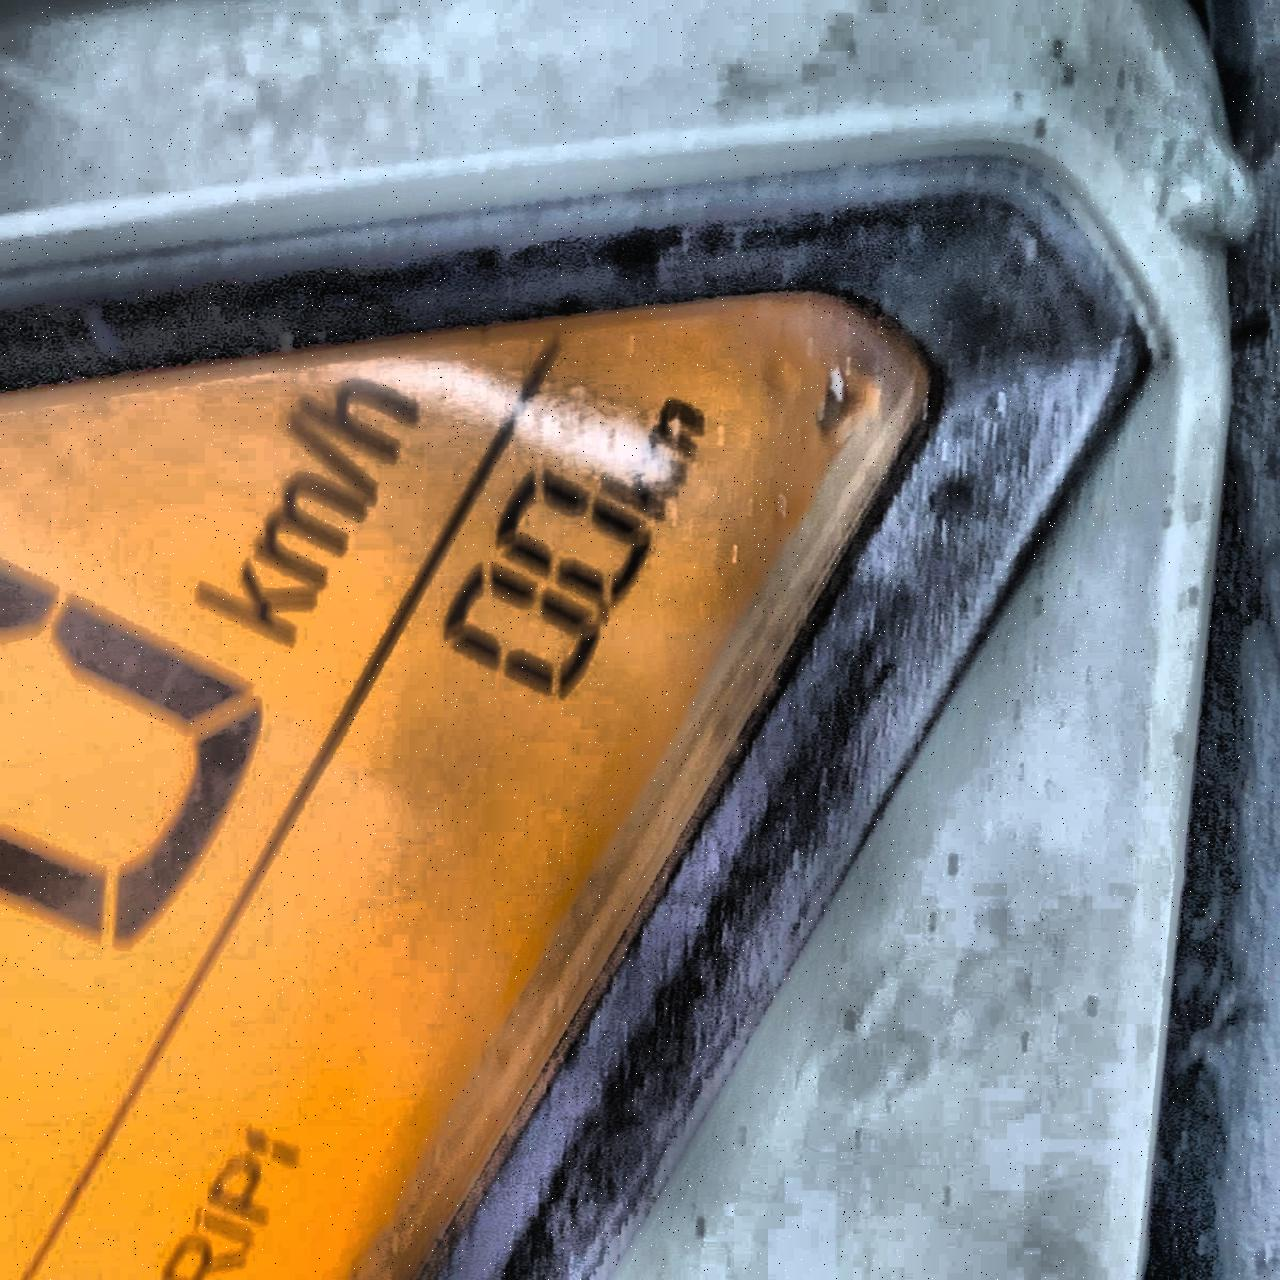-: (588, 600, 618, 628)
0: (440, 568, 599, 700), (493, 471, 649, 595)
1: (227, 1110, 322, 1165)
X: (251, 472, 361, 576), (297, 370, 429, 456), (272, 409, 384, 497), (185, 572, 328, 641), (207, 1158, 288, 1226), (649, 400, 713, 462), (156, 1235, 244, 1278)
odometer: (1, 267, 996, 1279)
